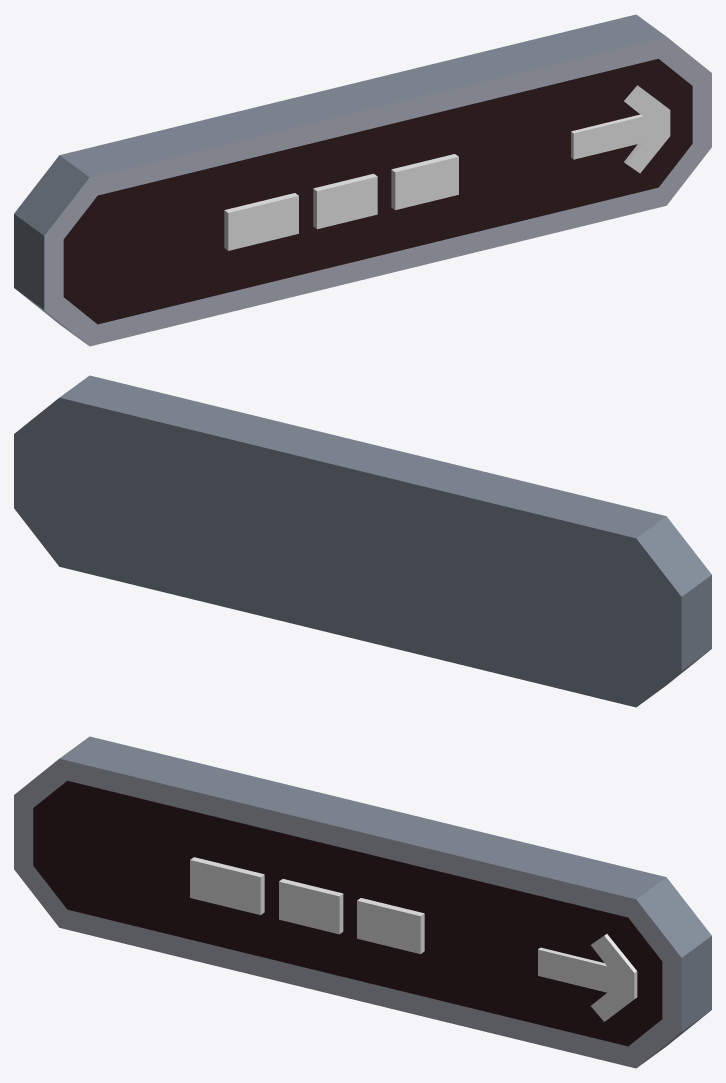
Rendered from TB_CITY_Prop_Sign_Part_A.FBX.
The picture shows the model from 3 angles, top to bottom: view 1: azimuth 30°, elevation 25°; view 2: azimuth 150°, elevation 25°; view 3: azimuth 330°, elevation 25°; orthographic projection.
Visible parts, largest first — view 1: TB_CITY_Prop_Sign_Part_A; view 2: TB_CITY_Prop_Sign_Part_A; view 3: TB_CITY_Prop_Sign_Part_A.
Part boxes in pixels (x1,y1,x2,y2): TB_CITY_Prop_Sign_Part_A: (14, 14, 711, 346); TB_CITY_Prop_Sign_Part_A: (14, 375, 711, 707); TB_CITY_Prop_Sign_Part_A: (14, 736, 711, 1068).
Size of the model in its own units: 2.22 by 0.5371 by 0.1974.
